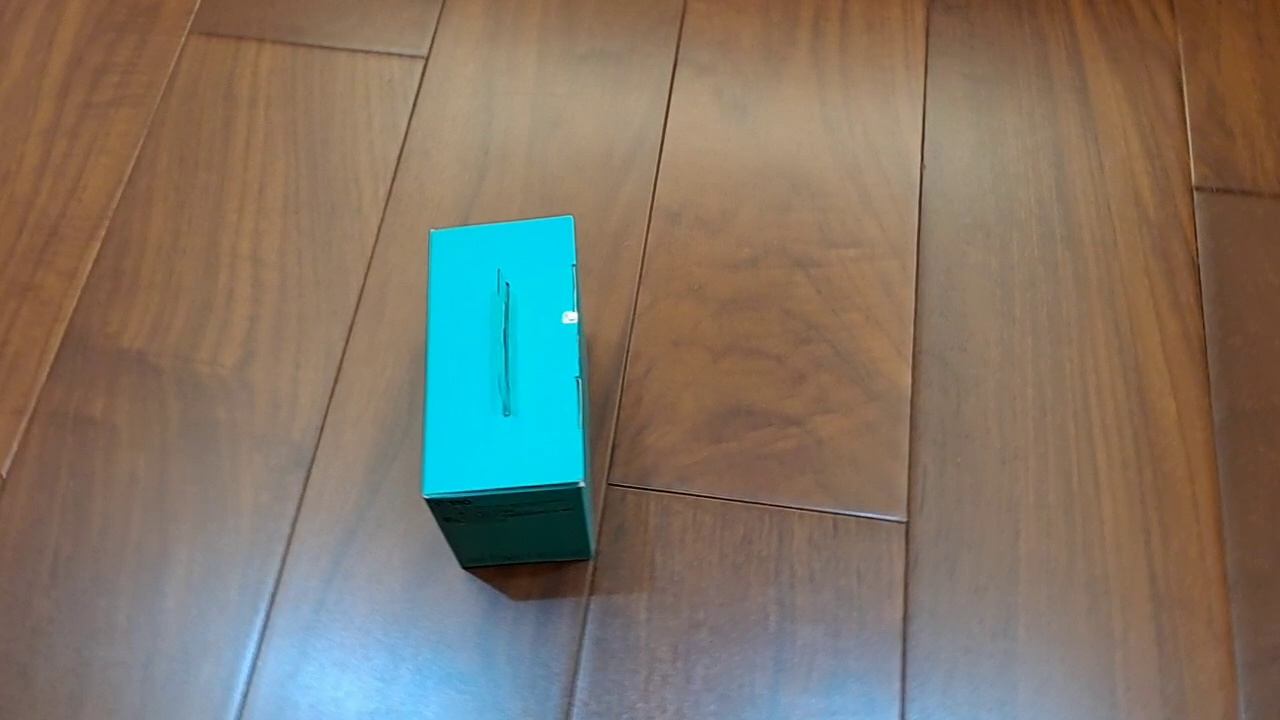webcam: (420, 213, 595, 569)
